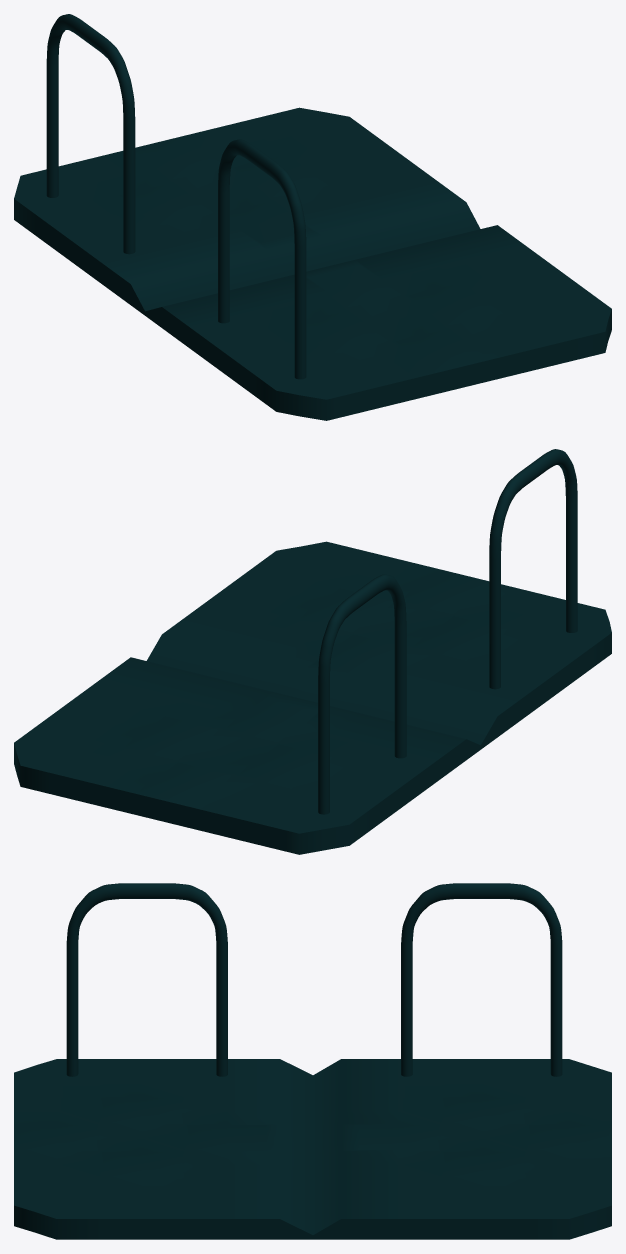
File: DDRDancePad.fbx
3 renders of one model, top to bottom at view 1: azimuth 30°, elevation 25°; view 2: azimuth 150°, elevation 25°; view 3: azimuth 270°, elevation 25°, orthographic. The views are drawn at different scales.
Visible parts, largest first — view 1: DancePad; view 2: DancePad; view 3: DancePad.
Part boxes in pixels (x1,y1,x2,y2): DancePad: [14, 14, 611, 420]; DancePad: [14, 449, 611, 854]; DancePad: [14, 883, 611, 1239].
Size of the model in its own units: 63.5 by 39.13 by 100.
